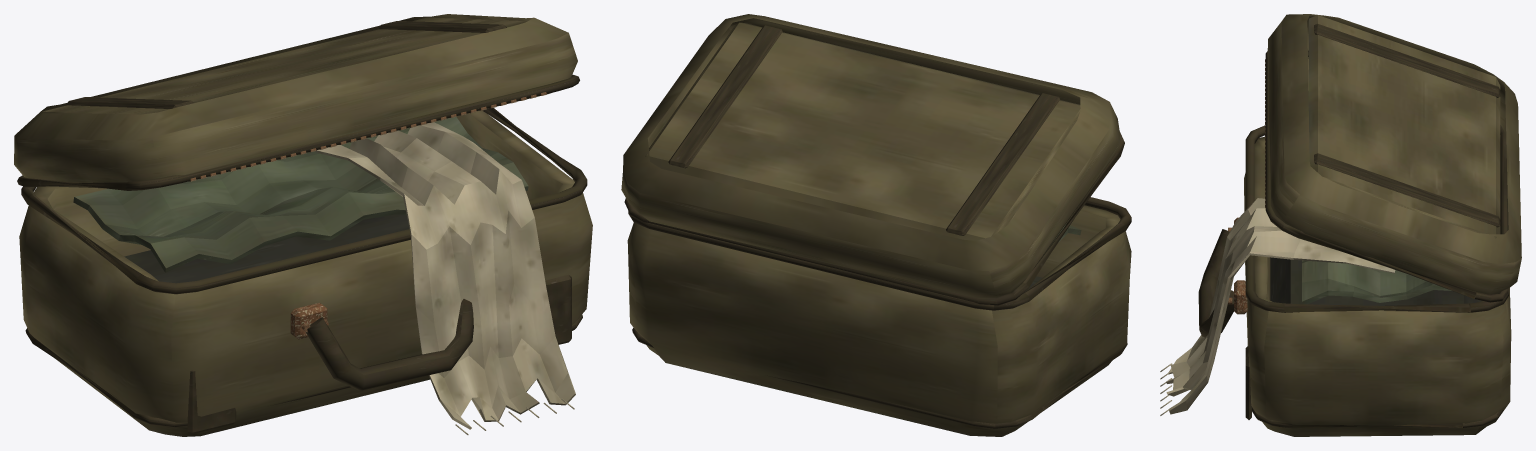
File: nb_suitcase.glb
The picture shows the model from 3 angles, left to right: view 1: azimuth 30°, elevation 25°; view 2: azimuth 150°, elevation 25°; view 3: azimuth 270°, elevation 25°; orthographic projection. The views are drawn at different scales.
Visible parts, largest first — view 1: Abandoned_Weathered_Suitcase_Body; view 2: Abandoned_Weathered_Suitcase_Body; view 3: Abandoned_Weathered_Suitcase_Body.
Boxes of the visible parts, x1=… form: Abandoned_Weathered_Suitcase_Body: x1=14, y1=14, x2=592, y2=436; Abandoned_Weathered_Suitcase_Body: x1=621, y1=14, x2=1131, y2=436; Abandoned_Weathered_Suitcase_Body: x1=1160, y1=14, x2=1521, y2=436.
Size of the model in its own units: 0.7788 by 0.5108 by 0.6257.
1 material, 1 textured.
